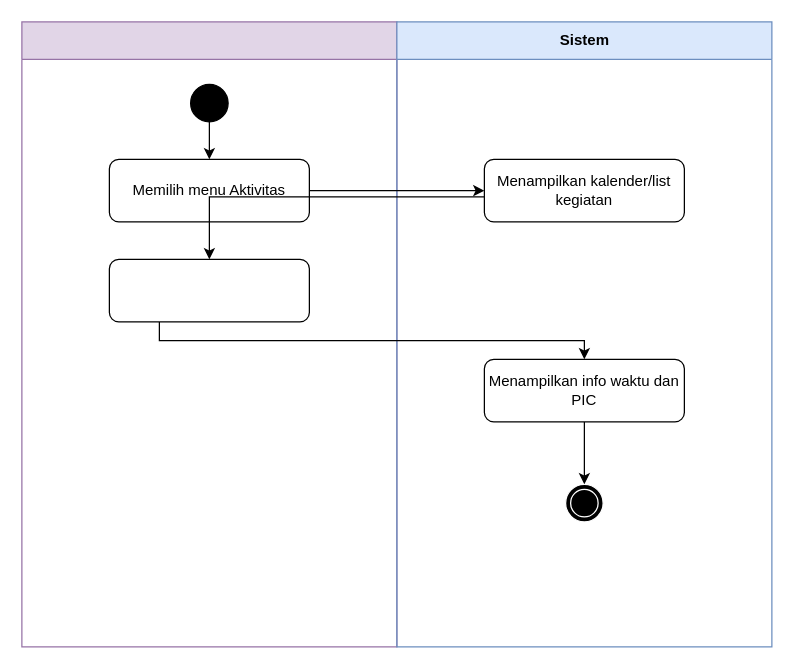
Image size: 794x669. Some labels were removed from this diagram. Here are the shapes that lost their labels. From the top down, the box of each, then its label:
(108, 258, 309, 322): Melihat detail aktivitas
(21, 21, 397, 647): Direktur
